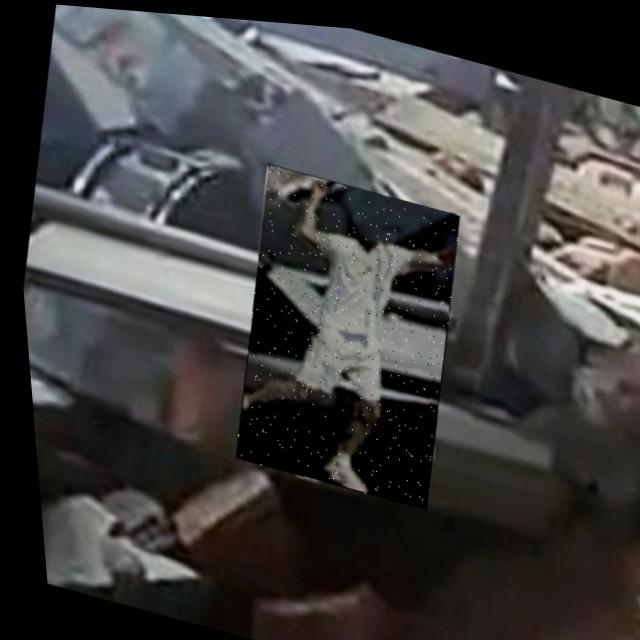Person in Rubble: (209, 156, 477, 508)
